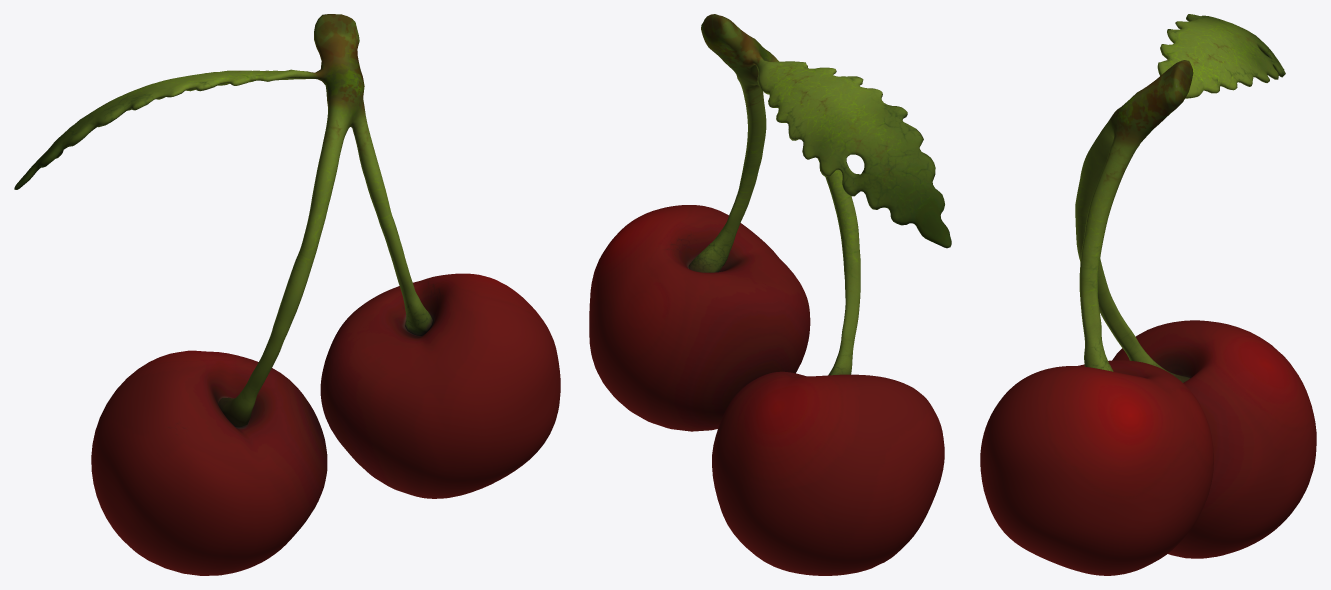
File: cherry.obj
3 renders of one model, left to right at view 1: azimuth 30°, elevation 25°; view 2: azimuth 150°, elevation 25°; view 3: azimuth 270°, elevation 25°, orthographic. The views are drawn at different scales.
Visible parts, largest first — view 1: Volume3_copy000, Volume35_copy000; view 2: Volume3_copy000, Volume35_copy000; view 3: Volume3_copy000, Volume35_copy000.
Part boxes in pixels (x1,y1,x2,y2): Volume3_copy000: (91,273,560,575); Volume35_copy000: (14,14,432,426); Volume3_copy000: (589,205,944,575); Volume35_copy000: (688,14,951,375); Volume3_copy000: (980,320,1316,575); Volume35_copy000: (1075,14,1285,382).
Size of the model in its own units: 517 by 585 by 332.
1 material, 1 textured.
